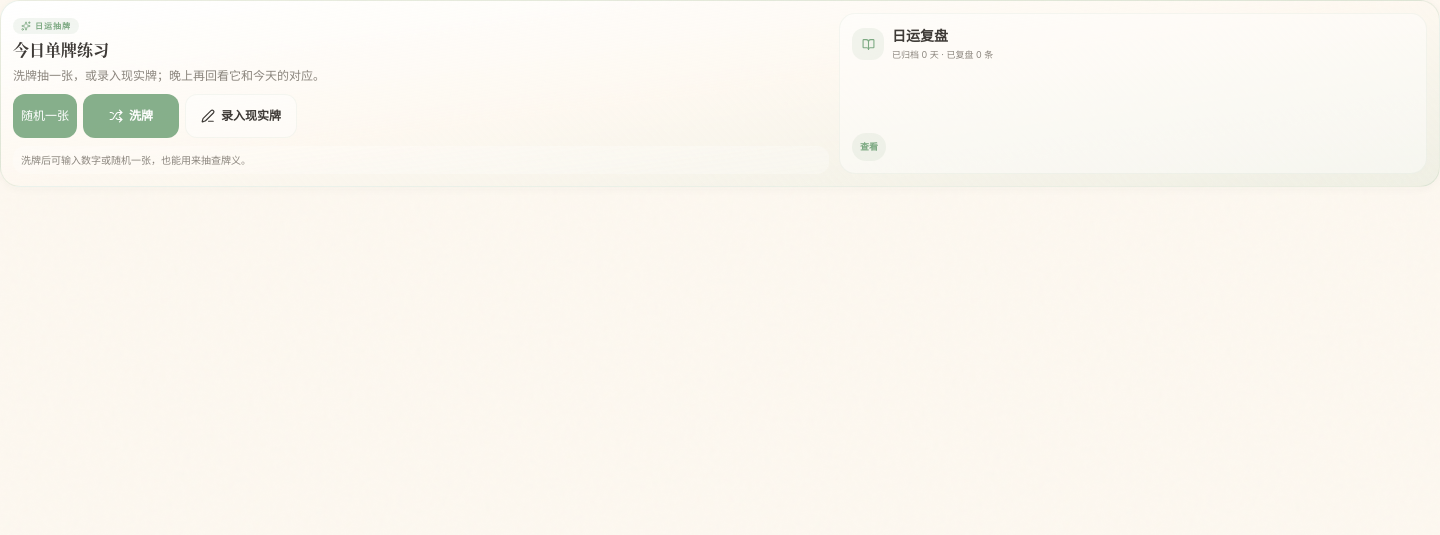
DailyFortuneCard › shows random draw only after shuffling the daily deck
Expected: the button "从洗好的牌组随机一张" is not shown
What coordinates should you click on to do the following:
click the button "洗牌"
I would click on:
 (131, 116)
Its box is [83,94,179,138].
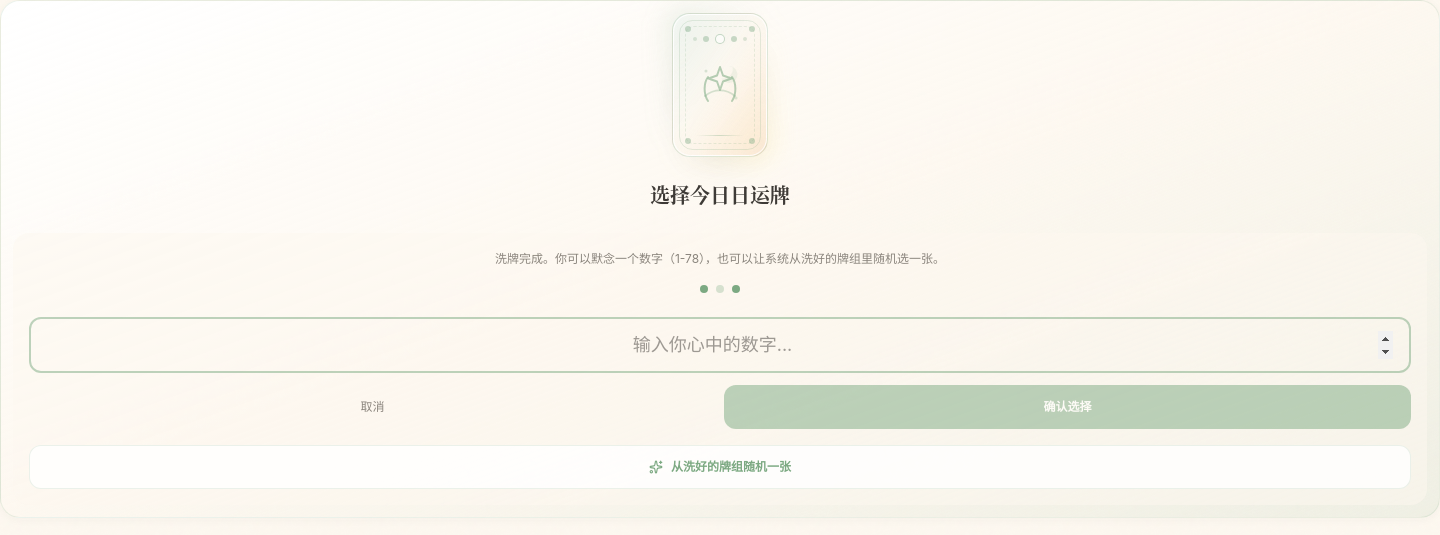
Expected: the heading "选择今日日运牌" is shown, [650,180,790,209]
Expected: the button "从洗好的牌组随机一张" is shown, [29,444,1411,488]
